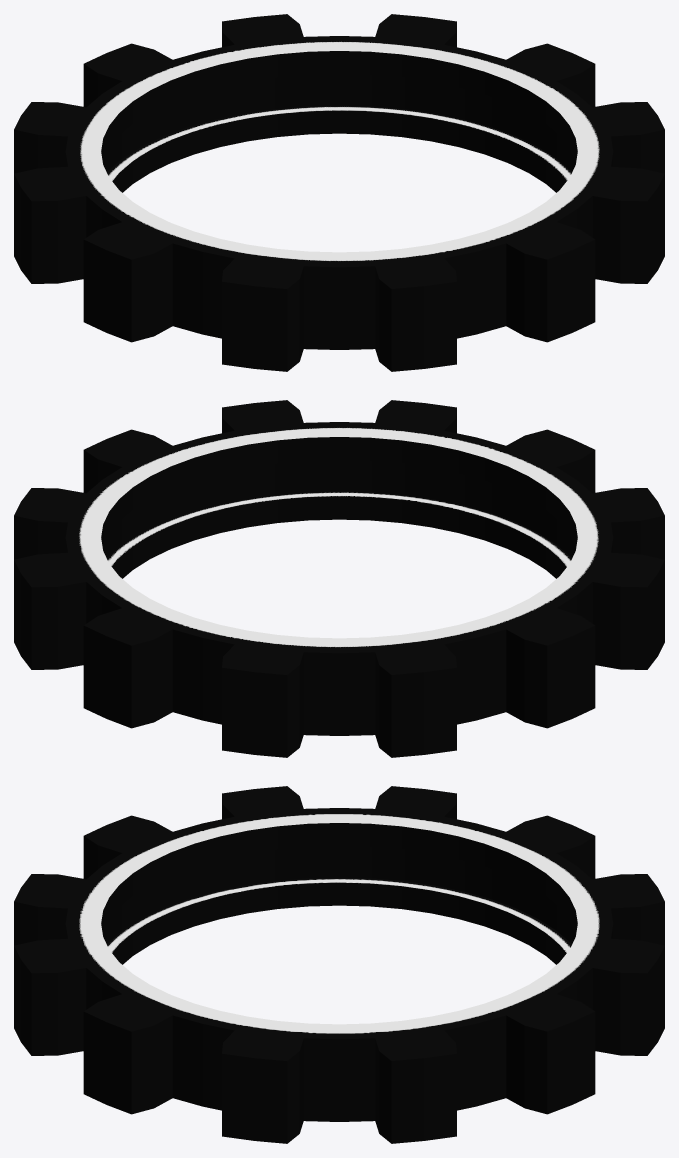
Rendered from Gear_L.obj.
3 renders of one model, top to bottom at view 1: azimuth 30°, elevation 25°; view 2: azimuth 150°, elevation 25°; view 3: azimuth 270°, elevation 25°, orthographic.
Visible parts, largest first — view 1: Gear_L; view 2: Gear_L; view 3: Gear_L.
Part boxes in pixels (x1,y1,x2,y2): Gear_L: (14,14,664,371); Gear_L: (14,400,664,757); Gear_L: (14,786,664,1143).
Bounding box in the file's own units: 6.42 × 0.9 × 6.42.
Materials: 1 (1 with a texture image).
